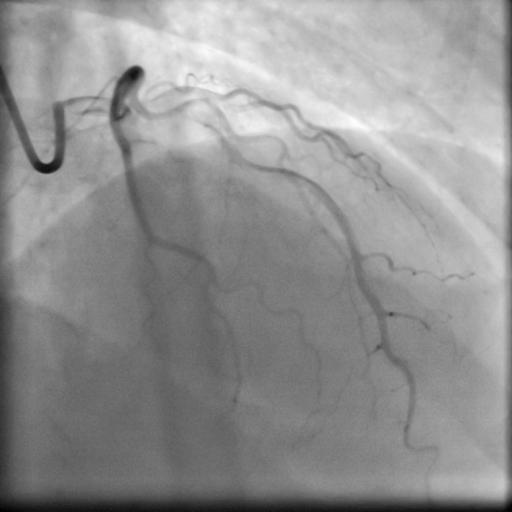Stenosis: (147, 100, 211, 117)
